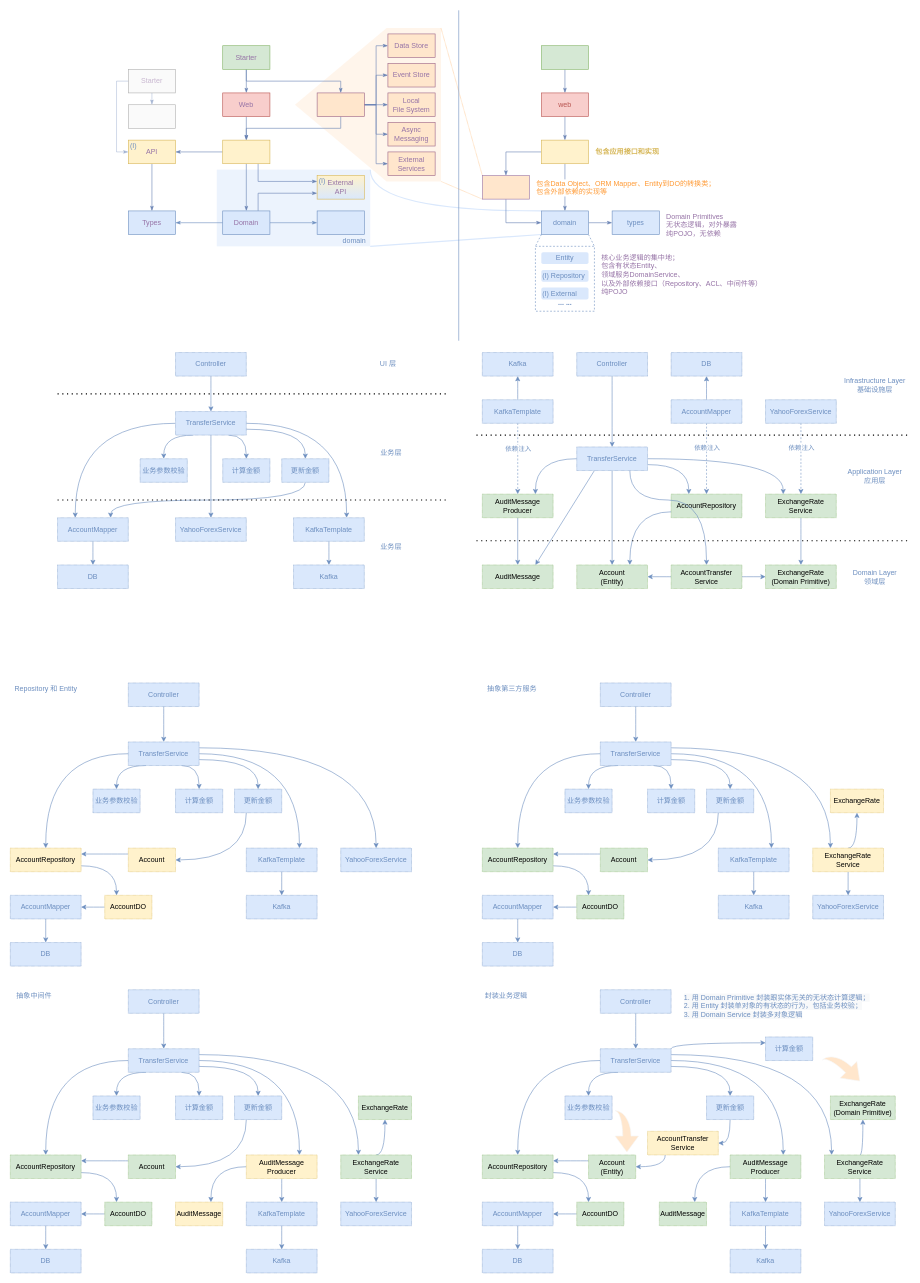
The diagram is 920 pixels wide and 1283 high, and some of its shapes have lost their labels. Here are the shapes that lost their labels. From the top down, the centre of each, then its label:
(565,57): start
(152,116): Autoconfigure
(340,104): Infrastructure
(246,152): Application
(565,152): a pplication
(506,187): persistence
(340,222): External Types
